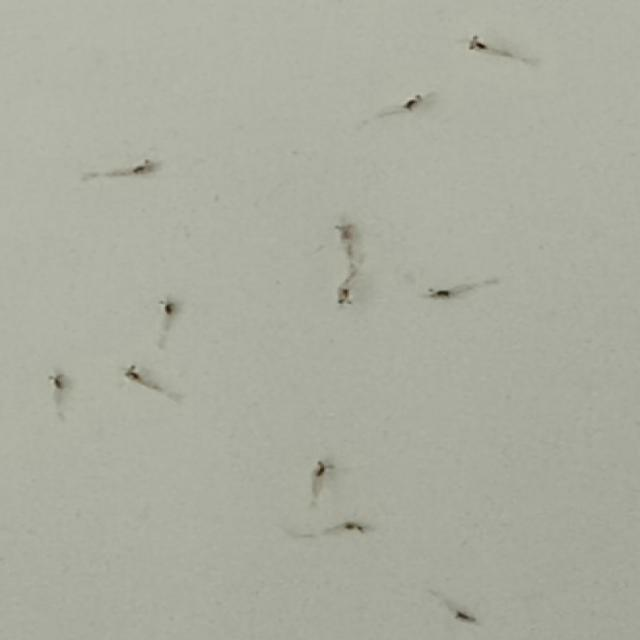shrimp-seed: (452, 28, 504, 60), (392, 90, 442, 122), (334, 512, 380, 543), (301, 452, 345, 484), (122, 152, 166, 182), (330, 278, 366, 311), (330, 216, 366, 248), (151, 293, 189, 319), (446, 602, 484, 628), (118, 360, 150, 386), (41, 368, 72, 394), (421, 284, 460, 304)
